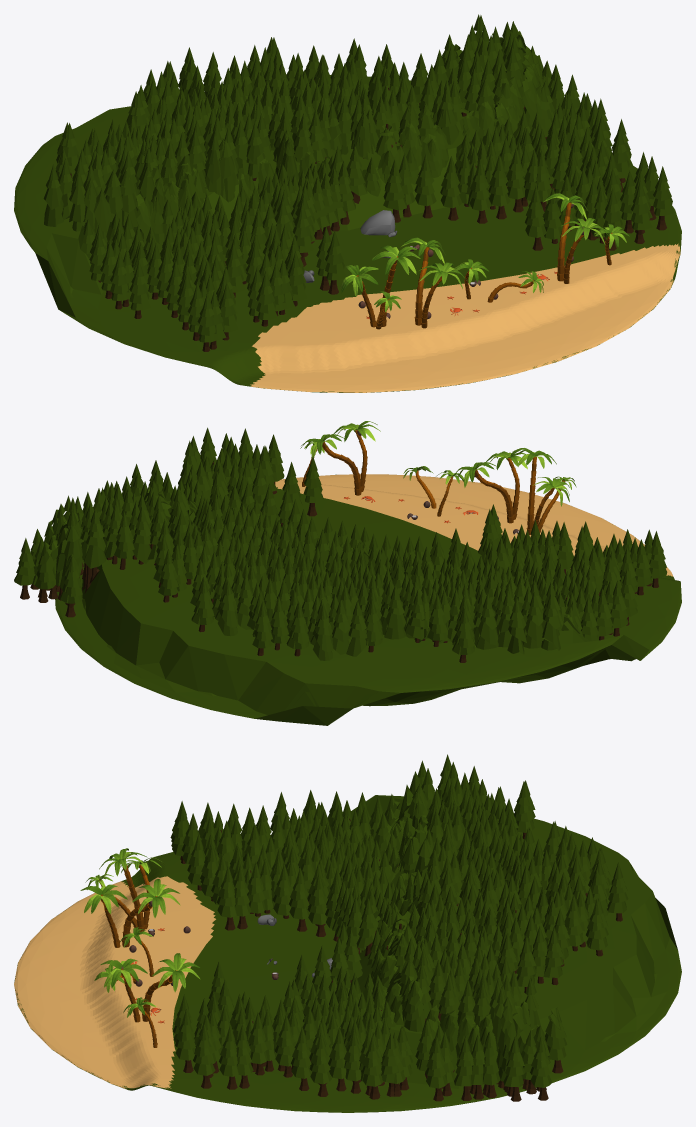
File: Environment.fbx
The picture shows the model from 3 angles, top to bottom: view 1: azimuth 30°, elevation 25°; view 2: azimuth 150°, elevation 25°; view 3: azimuth 270°, elevation 25°; orthographic projection. The views are drawn at different scales.
Visible parts, largest first — view 1: Icosphere, Palmtrees2, Palmtrees1, Palmtrees1.001, Blaetter.564, Blaetter.112, Blaetter.103, Blaetter.108, Blaetter.098, Blaetter.113, Blaetter.060, Blaetter.095 (+33 smaller); view 2: Icosphere, Palmtrees2, Palmtrees1.001, Palmtrees1, Blaetter.693, Blaetter.534, Blaetter.354, Blaetter.393, Blaetter.563, Blaetter.401, Blaetter.641, Blaetter.564 (+30 smaller); view 3: Icosphere, Palmtrees1, Palmtrees1.001, Palmtrees2, Blaetter.636, Blaetter.702, Blaetter.676, Blaetter.589, Blaetter.680, Blaetter.596, Blaetter.681, Blaetter.597 (+34 smaller).
Part boxes in pixels (left/top/right/bottom): Icosphere: left=14, top=75, right=681, bottom=392; Palmtrees2: left=340, top=245, right=420, bottom=329; Palmtrees1: left=401, top=237, right=467, bottom=328; Palmtrees1.001: left=543, top=193, right=609, bottom=283; Blaetter.564: left=43, top=164, right=63, bottom=226; Blaetter.112: left=488, top=154, right=510, bottom=219; Blaetter.103: left=469, top=159, right=491, bottom=223; Blaetter.108: left=414, top=154, right=436, bottom=218; Blaetter.098: left=440, top=156, right=462, bottom=220; Blaetter.113: left=525, top=186, right=546, bottom=250; Blaetter.060: left=383, top=159, right=407, bottom=222; Blaetter.095: left=506, top=147, right=525, bottom=212; Icosphere: left=55, top=474, right=681, bottom=725; Palmtrees2: left=512, top=448, right=576, bottom=534; Palmtrees1.001: left=300, top=421, right=380, bottom=495; Palmtrees1: left=453, top=449, right=527, bottom=523; Blaetter.693: left=83, top=508, right=106, bottom=583; Blaetter.534: left=476, top=593, right=498, bottom=649; Blaetter.354: left=384, top=584, right=406, bottom=639; Blaetter.393: left=313, top=604, right=333, bottom=660; Blaetter.563: left=523, top=591, right=543, bottom=648; Blaetter.401: left=217, top=580, right=238, bottom=635; Blaetter.641: left=35, top=542, right=55, bottom=602; Blaetter.564: left=541, top=593, right=560, bottom=650; Icosphere: left=14, top=795, right=681, bottom=1112; Palmtrees1: left=80, top=879, right=180, bottom=947; Palmtrees1.001: left=100, top=953, right=200, bottom=1022; Palmtrees2: left=85, top=848, right=162, bottom=932; Blaetter.636: left=425, top=1036, right=447, bottom=1101; Blaetter.702: left=503, top=1036, right=525, bottom=1101; Blaetter.676: left=403, top=980, right=425, bottom=1031; Blaetter.589: left=193, top=1024, right=215, bottom=1088; Blaetter.680: left=530, top=1036, right=552, bottom=1100; Blaetter.596: left=361, top=1034, right=383, bottom=1099; Blaetter.681: left=483, top=1031, right=500, bottom=1098; Blaetter.597: left=309, top=1032, right=331, bottom=1096.
Size of the model in its own units: 7113 by 1380 by 7113.
Materials: 10 (6 with a texture image).
